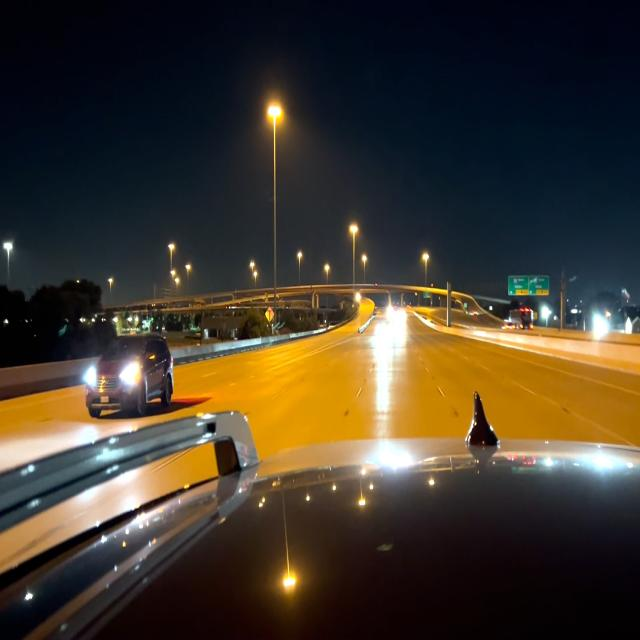back-of-sign: (265, 307, 274, 322)
